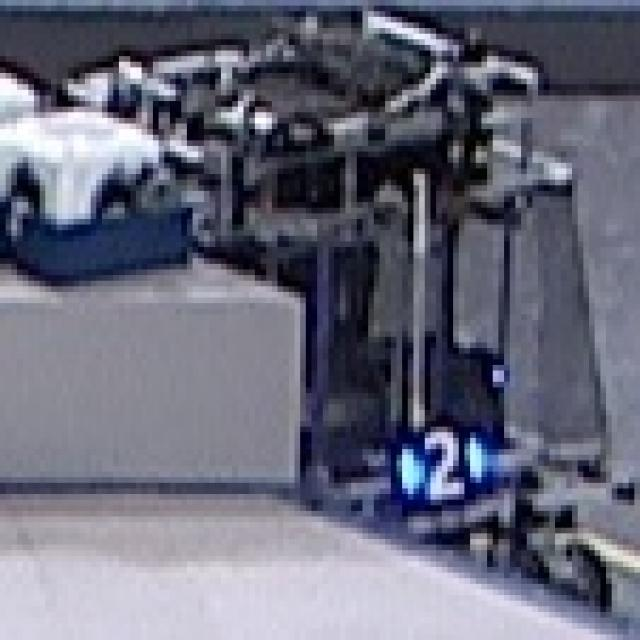B2: (397, 421, 487, 500)
